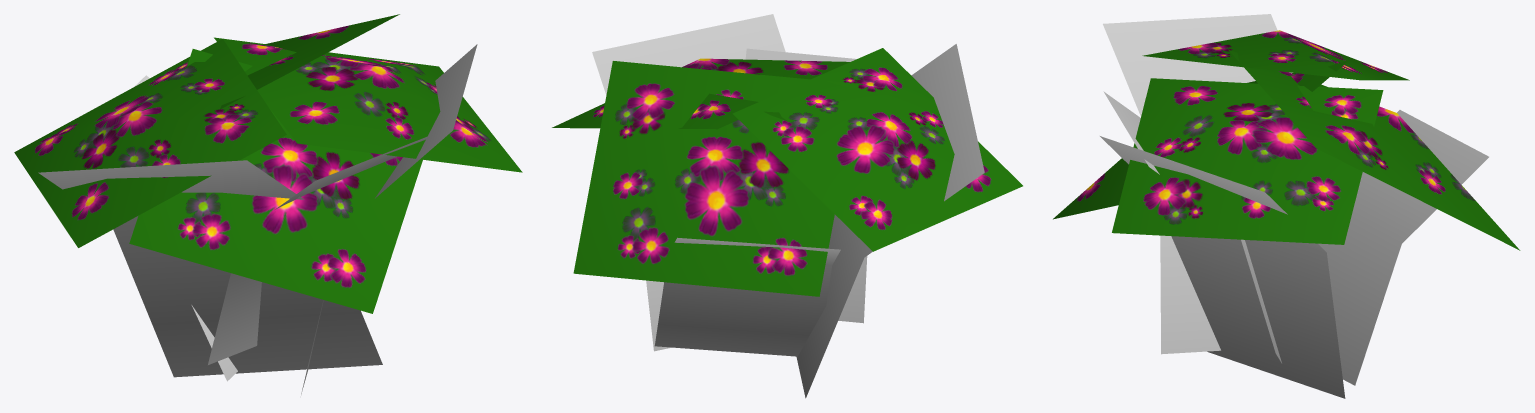
File: Flower_003.fbx
3 renders of one model, left to right at view 1: azimuth 30°, elevation 25°; view 2: azimuth 150°, elevation 25°; view 3: azimuth 270°, elevation 25°, orthographic. The views are drawn at different scales.
Visible parts, largest first — view 1: polySurface1; view 2: polySurface1; view 3: polySurface1.
Boxes of the visible parts, x1,y1,x2,y2 form: polySurface1: [14, 14, 522, 394]; polySurface1: [552, 14, 1022, 398]; polySurface1: [1053, 14, 1520, 398].
Size of the model in its own units: 660 by 452 by 642.
